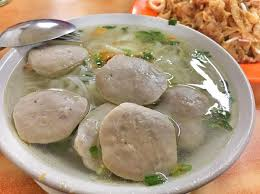bakso: (33, 31, 220, 194)
